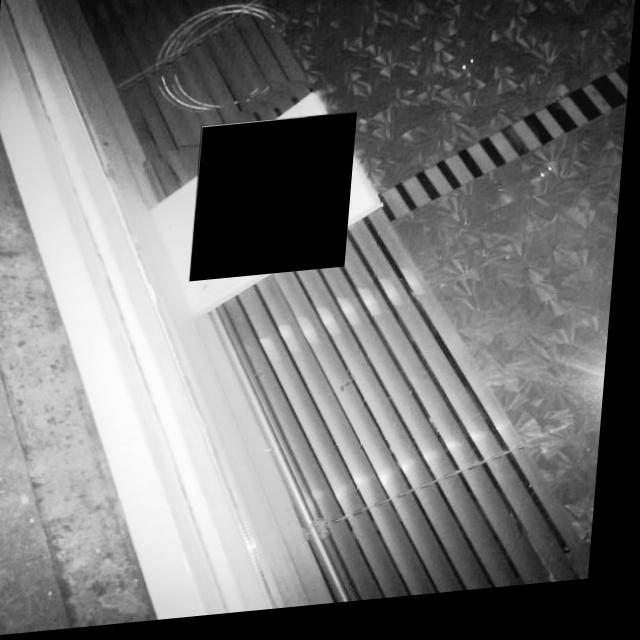qr_code: (193, 119, 359, 286)
